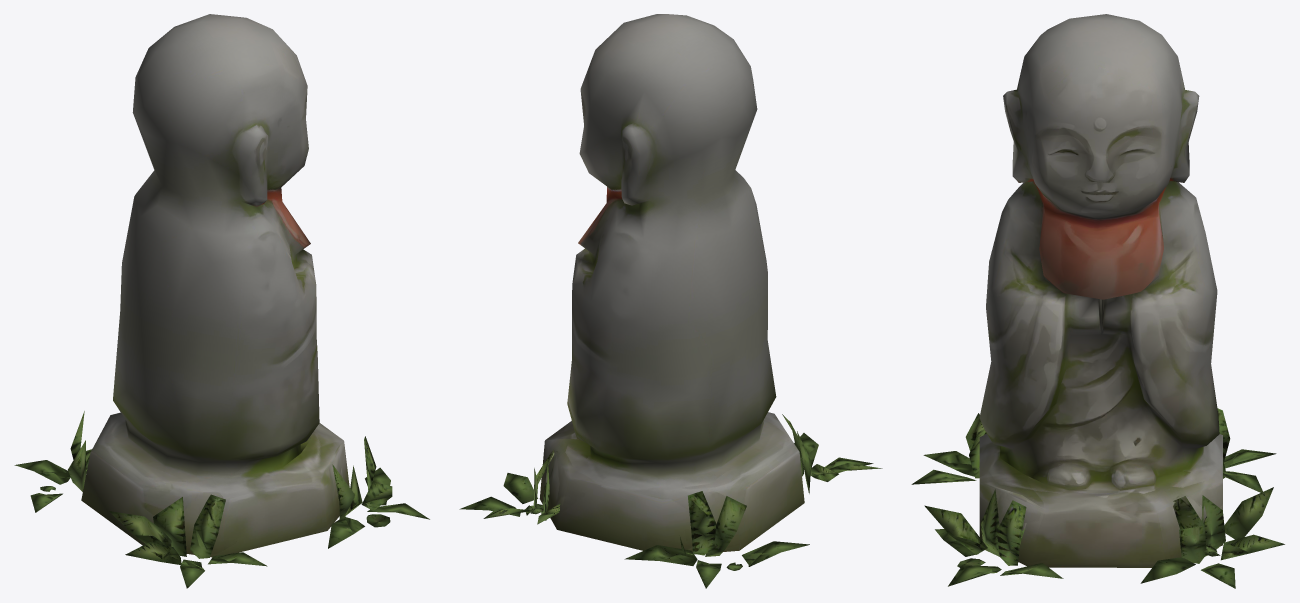
File: seated_buddha_figure.glb
3 views of the same model, side by side, from view 1: azimuth 30°, elevation 25°; view 2: azimuth 150°, elevation 25°; view 3: azimuth 270°, elevation 25° (orthographic). The views are drawn at different scales.
Parts seen in each view (by area): view 1: tripo_node_99d4eef2-81e2-49e4-a613-d88a437438b4; view 2: tripo_node_99d4eef2-81e2-49e4-a613-d88a437438b4; view 3: tripo_node_99d4eef2-81e2-49e4-a613-d88a437438b4.
Part boxes in pixels (x1,y1,x2,y2): tripo_node_99d4eef2-81e2-49e4-a613-d88a437438b4: (14,14,429,588); tripo_node_99d4eef2-81e2-49e4-a613-d88a437438b4: (459,14,882,588); tripo_node_99d4eef2-81e2-49e4-a613-d88a437438b4: (911,14,1284,588).
Bounding box in the file's own units: 0.6777 × 0.998 × 0.6855.
1 material, 1 textured.
